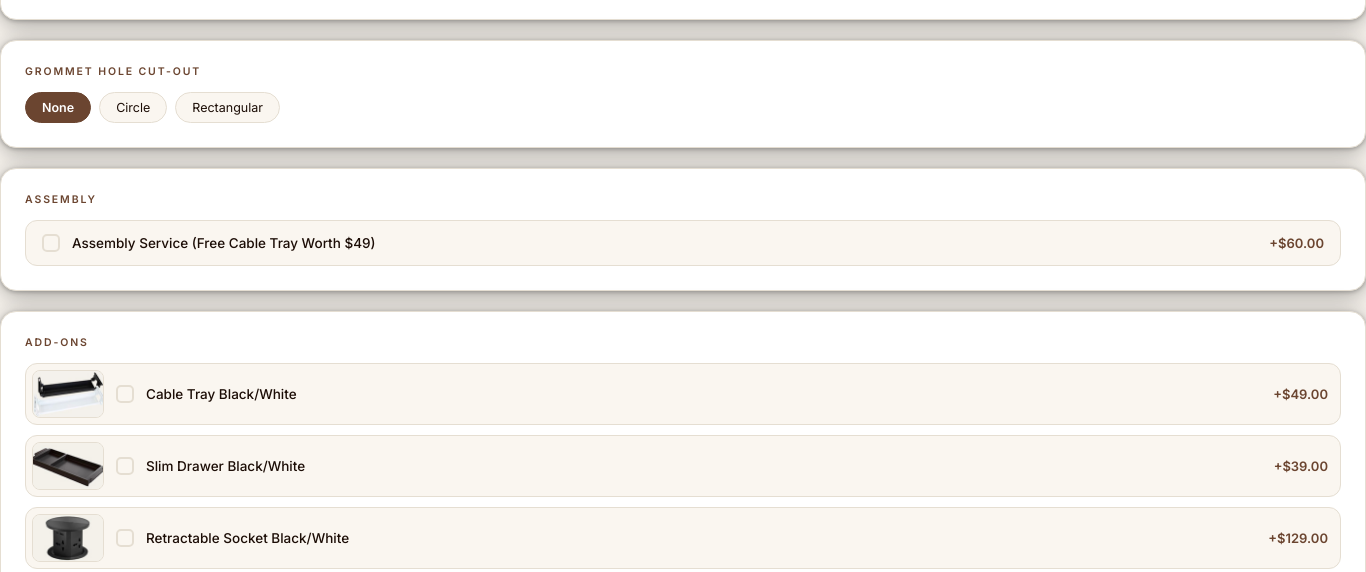
Test: RectCalculator — accessories add to total › adding assembly increases total by $60.00
(page scrolled)
Click the text "Assembly Service (Free Cable Tray Worth $49)" at [209, 243], box [42,234,376,252]
(page scrolled)
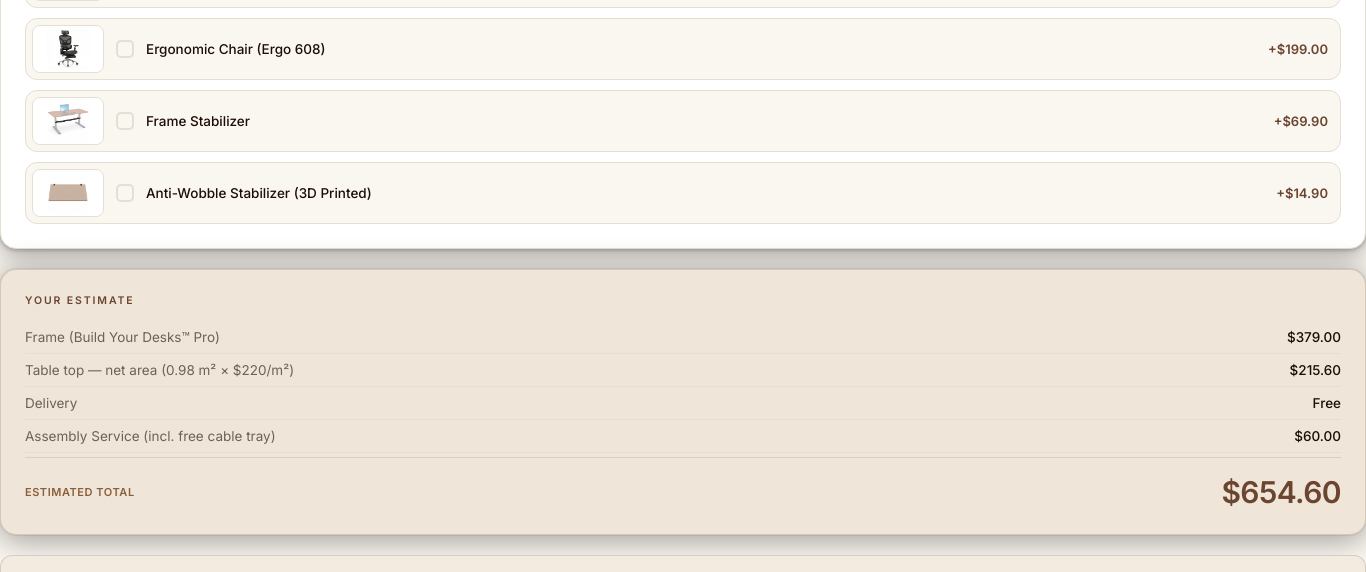
Now the text "$654.60" is shown, box [1221,474,1341,510]
